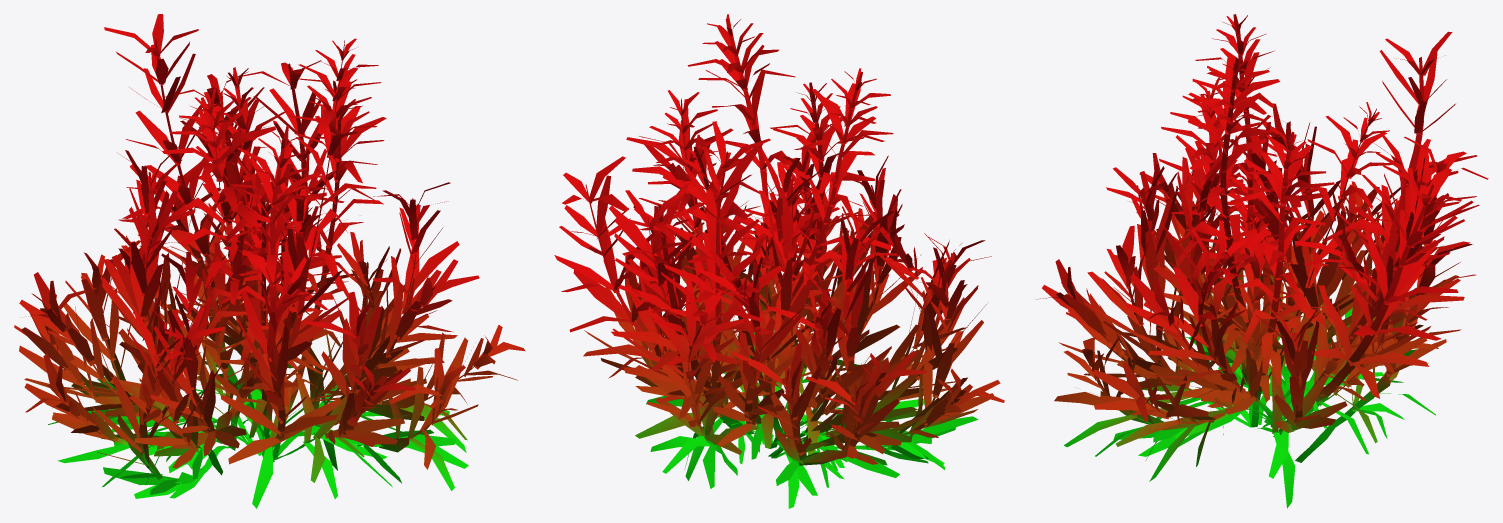
File: Var3_LOD3.fbx
3 views of the same model, side by side, from view 1: azimuth 30°, elevation 25°; view 2: azimuth 150°, elevation 25°; view 3: azimuth 270°, elevation 25° (orthographic). The views are drawn at different scales.
Parts seen in each view (by area): view 1: _7v1i_Var3_LOD3; view 2: _7v1i_Var3_LOD3; view 3: _7v1i_Var3_LOD3.
Boxes of the visible parts, box(x1,y1,x2,y2) form: _7v1i_Var3_LOD3: box(14, 14, 525, 508); _7v1i_Var3_LOD3: box(554, 14, 1004, 508); _7v1i_Var3_LOD3: box(1037, 14, 1488, 508).
Size of the model in its own units: 33.18 by 33.06 by 30.84.
